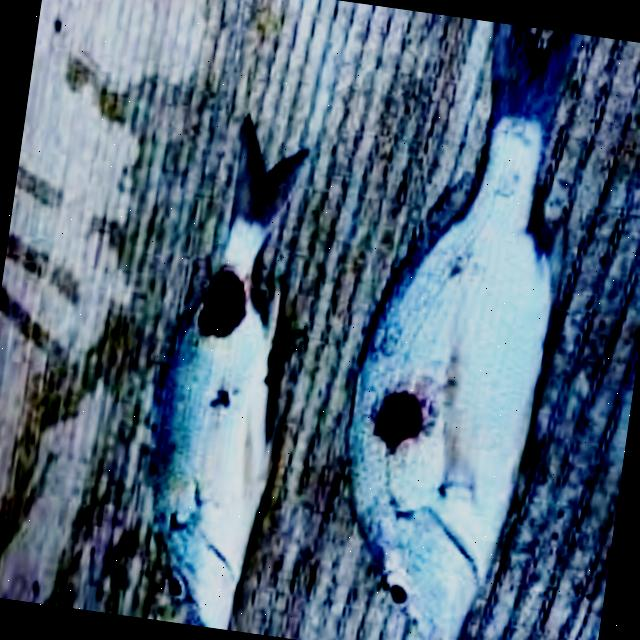Edwardsiella Ictaluri -Bacterial Red Disease-: (348, 27, 571, 640), (154, 117, 306, 630)
